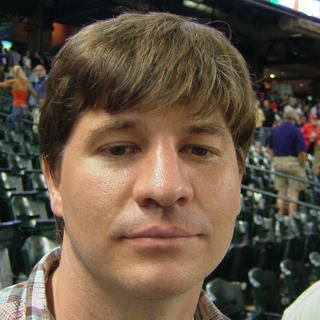eye: (94, 139, 144, 163), (177, 139, 221, 164)
